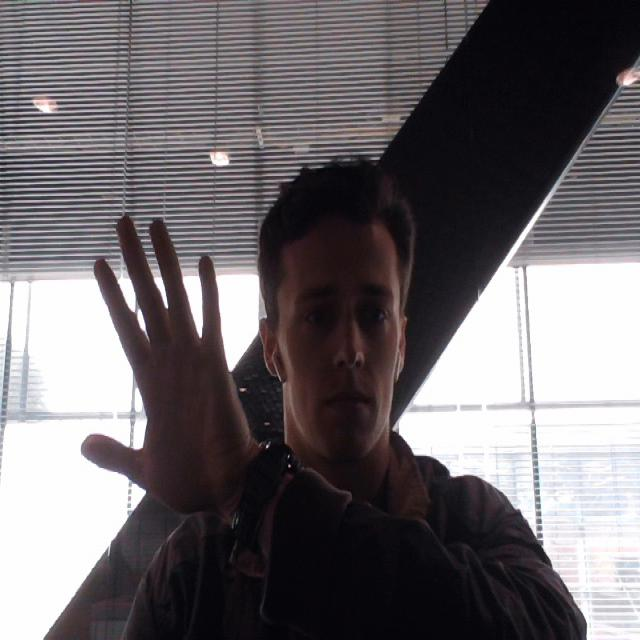backward: (66, 169, 248, 545)
